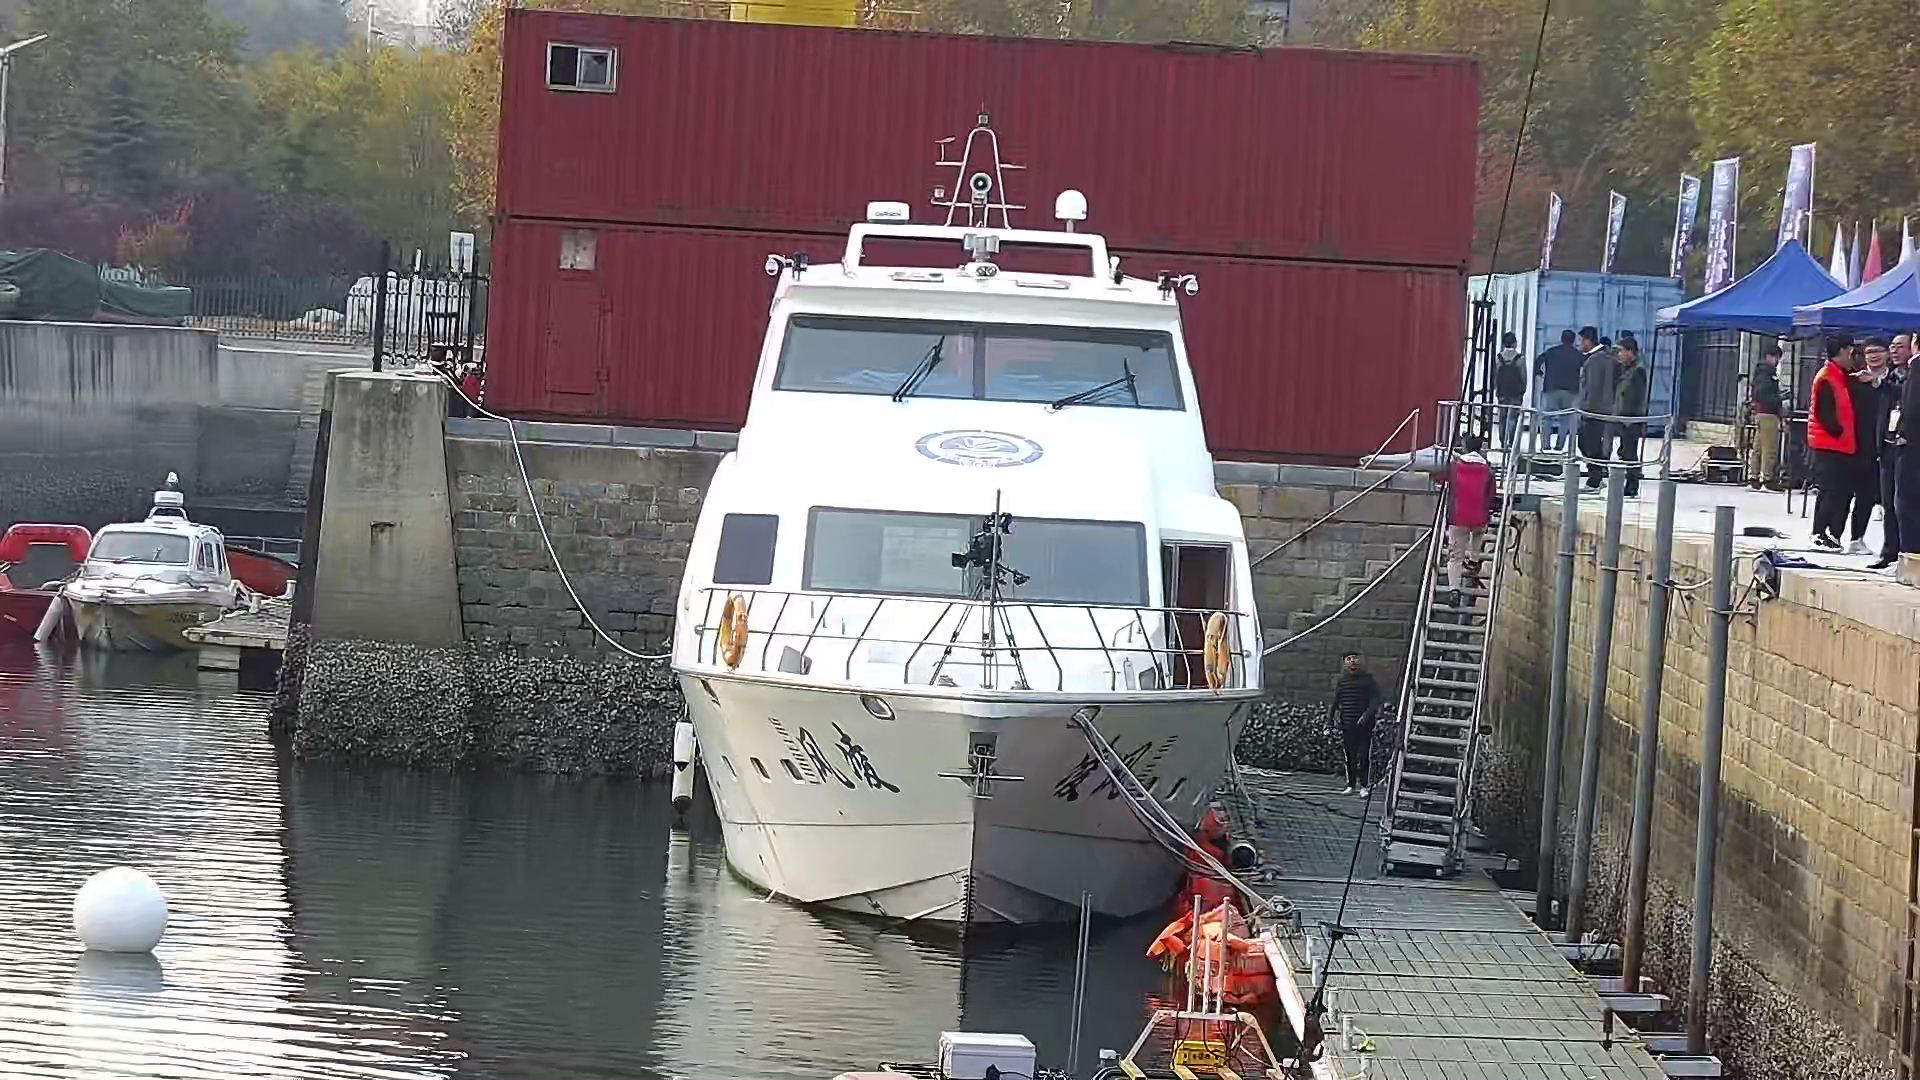harbor: (1230, 750, 1697, 1075)
person: (1328, 650, 1376, 797)
ship: (674, 204, 1261, 929), (74, 480, 229, 646)
